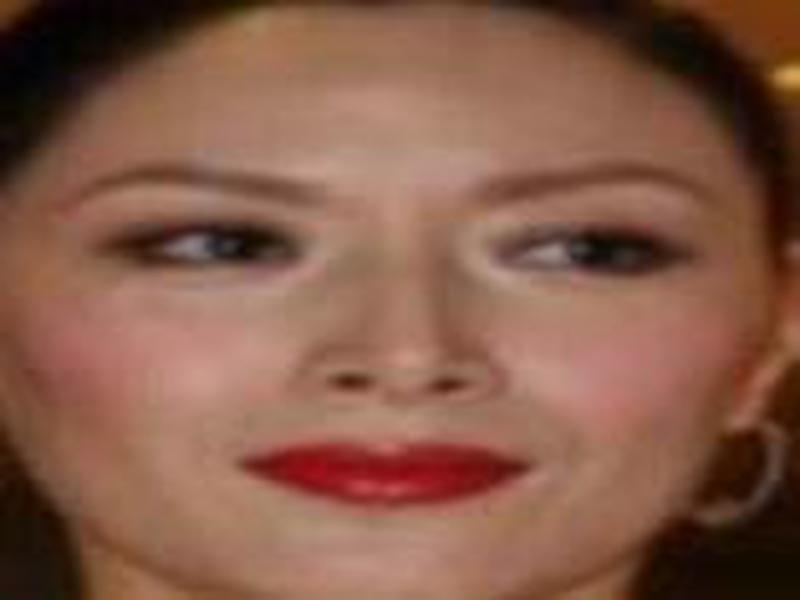without_mask: (10, 67, 761, 600)
